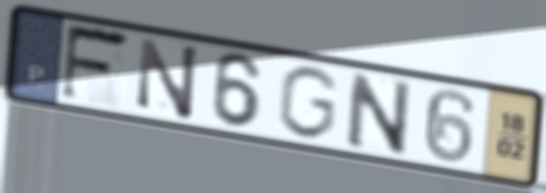6: (210, 52, 267, 130), (423, 86, 478, 166)
F: (56, 21, 135, 105)
G: (273, 64, 343, 143)
N: (344, 68, 414, 158), (135, 35, 202, 124)
